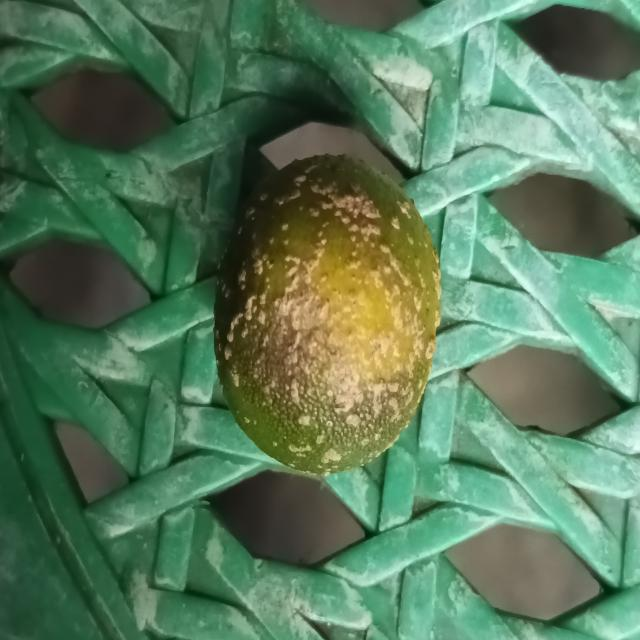scab: (216, 151, 449, 489)
